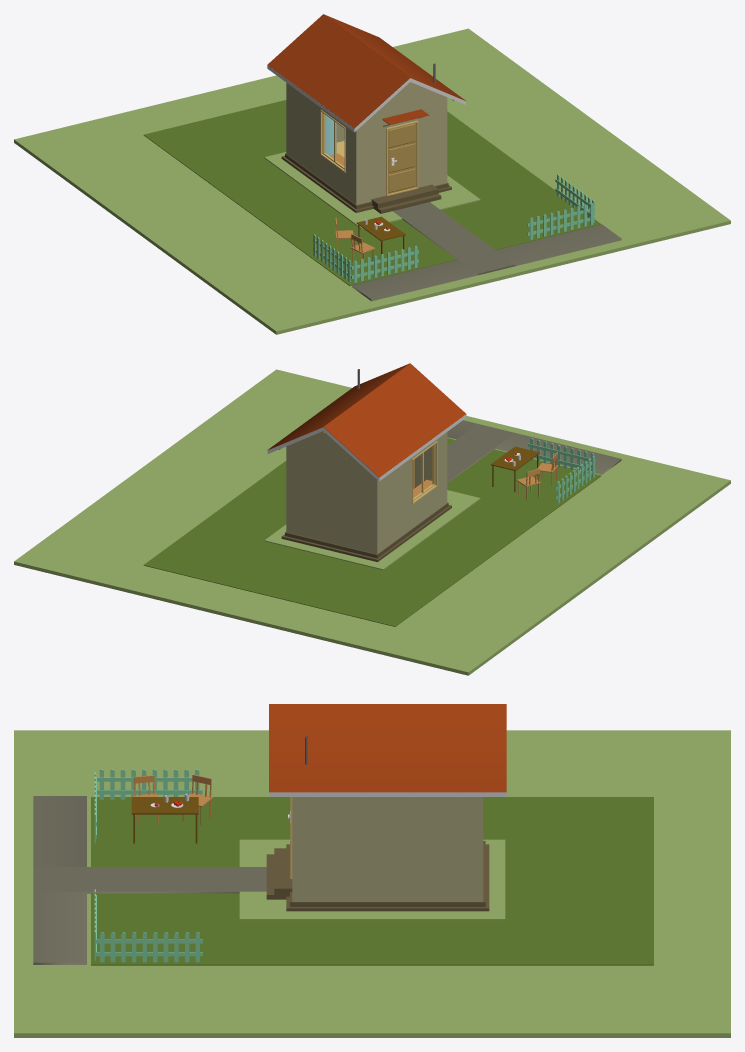
The model's file is HousGarden01.fbx.
3 renders of one model, top to bottom at view 1: azimuth 30°, elevation 25°; view 2: azimuth 150°, elevation 25°; view 3: azimuth 270°, elevation 25°, orthographic. The views are drawn at different scales.
Visible parts, largest first — view 1: Cube.001, Cube.003, Cube.080, Cube.089, Cube.008, Cube.083, Dor01.003, Cube.090, Dor03.003, Cube.004, Cube.005, Cube.007 (+3 smaller); view 2: Cube.001, Cube.003, Cube.080, Cube.089, Cube.008, Cube.083, Cube.090, Cube.005, Cube.104, Cube.105, Cube.007, Cube.081 (+1 smaller); view 3: Cube.001, Cube.003, Cube.090, Cube.080, Cube.008, Cube.083, Cube.009, Cube.007, Cube.105, Cube.002, Dor03.003, Cube.104 (+1 smaller).
Boxes of the visible parts, <box> form: Cube.001: <box>14,28,730,334</box>; Cube.003: <box>143,100,601,285</box>; Cube.080: <box>286,83,447,204</box>; Cube.089: <box>267,14,409,128</box>; Cube.008: <box>352,202,621,301</box>; Cube.083: <box>264,152,480,229</box>; Dor01.003: <box>388,122,416,193</box>; Cube.090: <box>323,14,465,100</box>; Dor03.003: <box>371,184,441,213</box>; Cube.004: <box>527,203,595,239</box>; Cube.005: <box>351,246,418,282</box>; Cube.007: <box>313,234,351,282</box>; Cube.001: <box>14,369,730,675</box>; Cube.003: <box>143,438,601,626</box>; Cube.080: <box>286,432,447,554</box>; Cube.089: <box>323,363,465,477</box>; Cube.008: <box>447,420,621,483</box>; Cube.083: <box>264,490,480,570</box>; Cube.090: <box>267,363,409,450</box>; Cube.005: <box>528,438,595,474</box>; Cube.104: <box>285,502,448,558</box>; Cube.105: <box>281,505,451,562</box>; Cube.007: <box>556,455,594,503</box>; Cube.081: <box>291,431,355,460</box>; Cube.001: <box>14,730,730,1037</box>; Cube.003: <box>91,797,653,965</box>; Cube.090: <box>269,704,506,792</box>; Cube.080: <box>292,797,483,901</box>; Cube.008: <box>33,796,266,964</box>; Cube.083: <box>239,839,505,920</box>; Cube.009: <box>97,932,202,962</box>; Cube.007: <box>97,769,202,799</box>; Cube.105: <box>286,844,489,911</box>; Cube.002: <box>131,797,198,843</box>; Dor03.003: <box>266,848,292,899</box>; Cube.104: <box>290,841,485,906</box>.
Bounding box in the file's own units: 1500 × 426 × 1500.
